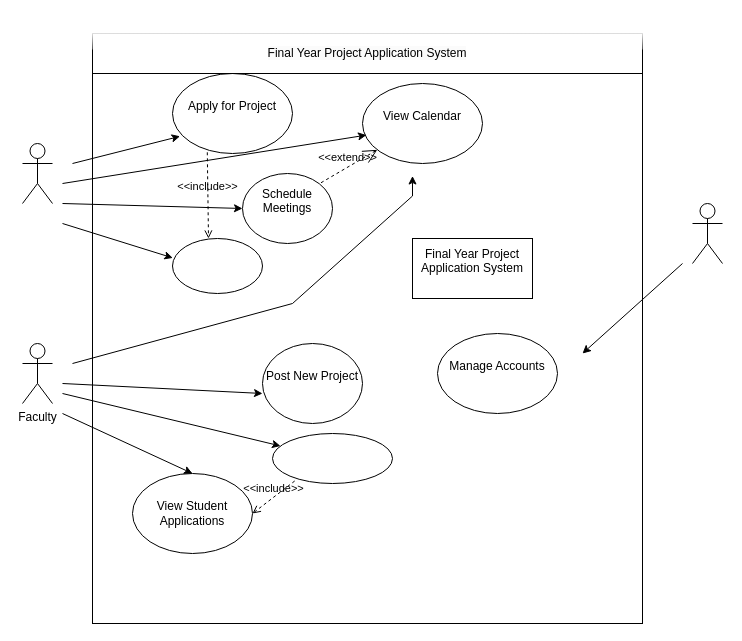
Image size: 742x641. Some labels were removed from this diagram. Here are the shapes that lost their labels. From the top down, the box of each, then its label:
(22, 142, 52, 204): Student
(692, 202, 722, 264): Admin
(172, 238, 262, 294): View Available Projects
(272, 432, 392, 484): Approve/Reject Applications
